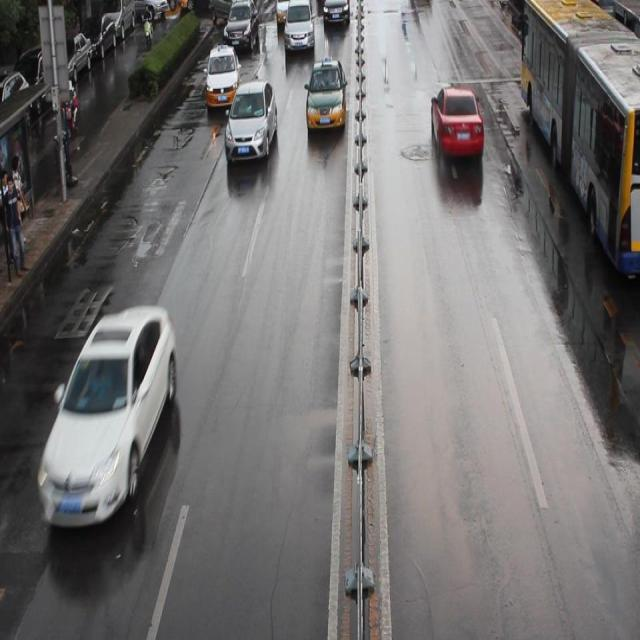car: (38, 302, 178, 526), (225, 80, 277, 161), (429, 82, 483, 155), (305, 58, 345, 129), (205, 44, 239, 108), (222, 2, 258, 48), (208, 1, 250, 23), (322, 1, 349, 25), (274, 1, 305, 20)
truck: (284, 1, 314, 52)
van: (520, 1, 640, 274)
